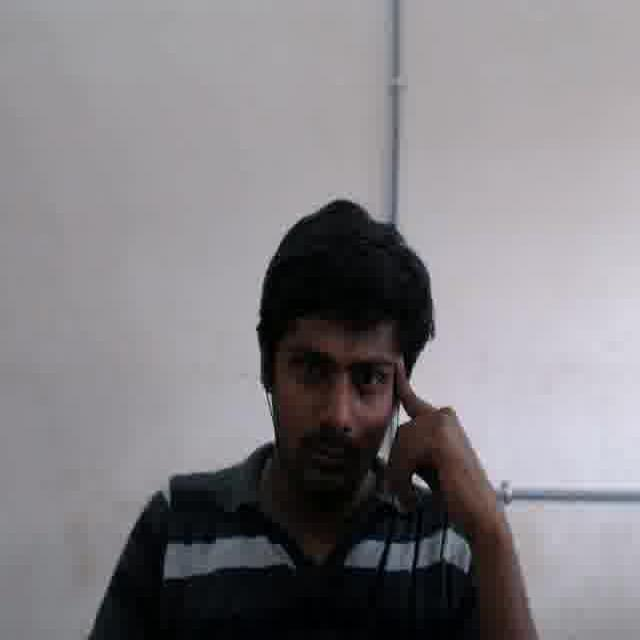Engaged: (273, 308, 393, 495)
